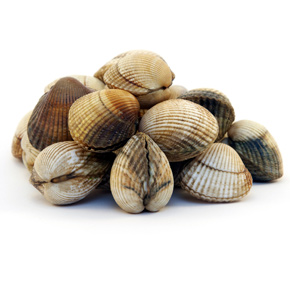cockle: (109, 131, 175, 214), (27, 141, 108, 207), (140, 97, 219, 162), (25, 76, 88, 152), (178, 142, 255, 204), (67, 88, 140, 152), (222, 118, 289, 181), (92, 50, 176, 97), (178, 84, 236, 140)
